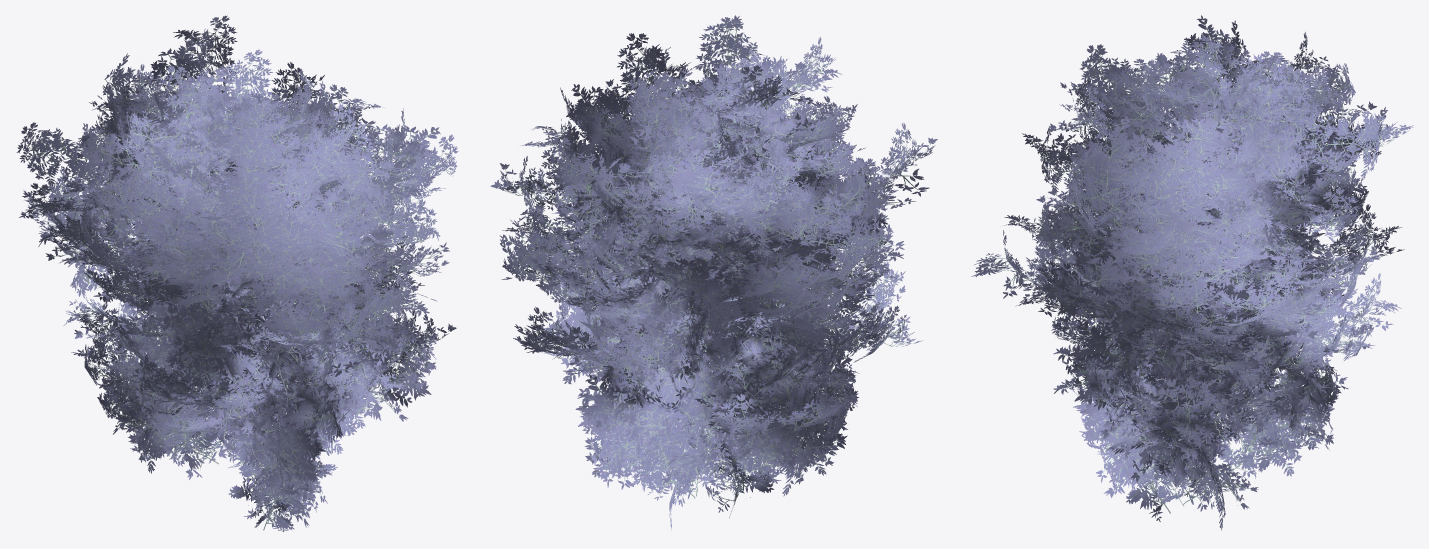
3 renders of one model, left to right at view 1: azimuth 30°, elevation 25°; view 2: azimuth 150°, elevation 25°; view 3: azimuth 270°, elevation 25°, orthographic. The views are drawn at different scales.
Visible parts, largest first — view 1: SM_FH_Ash_Canopy_01_LOD0; view 2: SM_FH_Ash_Canopy_01_LOD0; view 3: SM_FH_Ash_Canopy_01_LOD0.
Boxes of the visible parts, x1,y1,x2,y2 form: SM_FH_Ash_Canopy_01_LOD0: (16,15,458,532); SM_FH_Ash_Canopy_01_LOD0: (490,15,937,530); SM_FH_Ash_Canopy_01_LOD0: (971,15,1413,530).
Bounding box in the file's own units: 11.46 × 12.95 × 11.33.
1 material, 1 textured.
